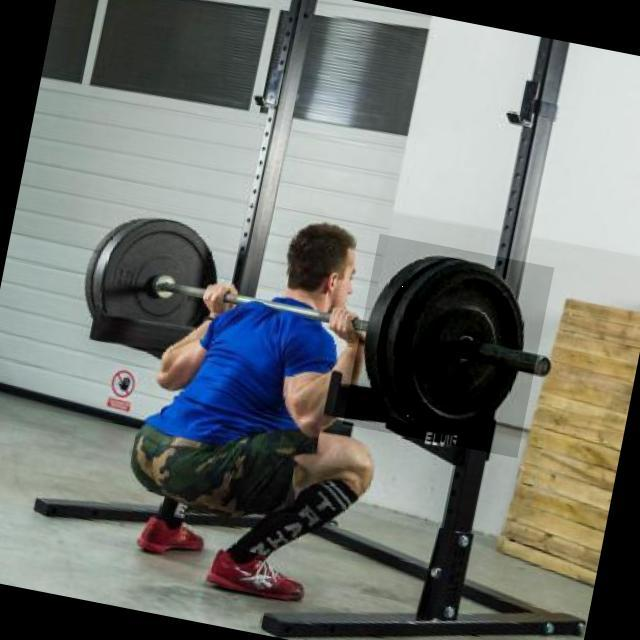barbell: (344, 236, 556, 460)
